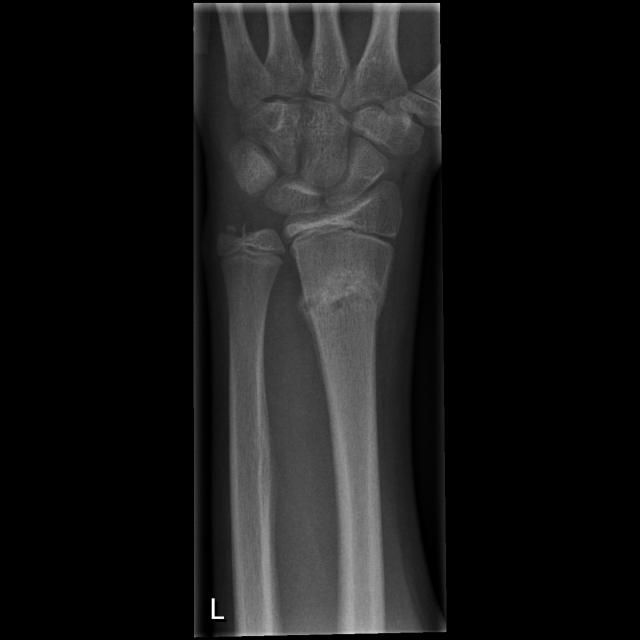radius fracture: (295, 250, 403, 364)
